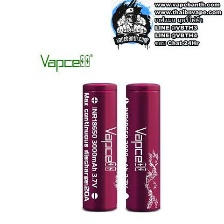battery: (123, 81, 165, 214), (80, 81, 119, 212)
